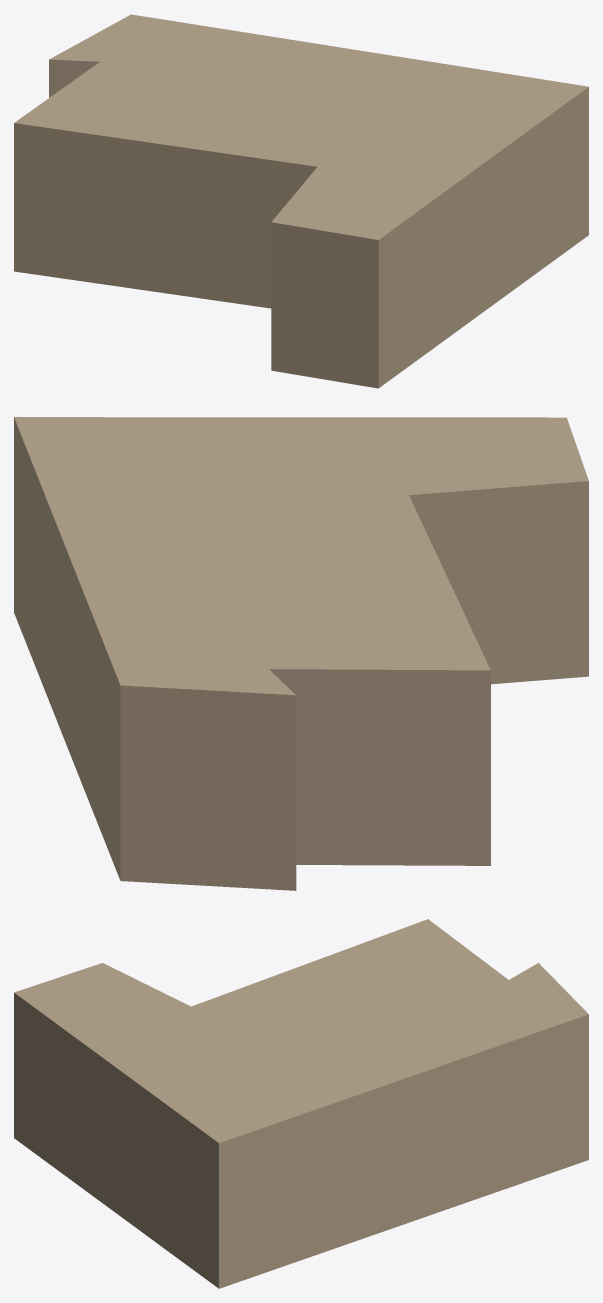
Rendered from bld_1052125175.dae.
3 renders of one model, top to bottom at view 1: azimuth 30°, elevation 25°; view 2: azimuth 150°, elevation 25°; view 3: azimuth 270°, elevation 25°, orthographic. The views are drawn at different scales.
Parts seen in each view (by area): view 1: The Swan Inn; view 2: The Swan Inn; view 3: The Swan Inn.
Part boxes in pixels (x1=…): The Swan Inn: x1=14, y1=14, x2=588, y2=388; The Swan Inn: x1=14, y1=417, x2=588, y2=890; The Swan Inn: x1=14, y1=919, x2=588, y2=1288.
Bounding box in the file's own units: 26.42 × 28.63 × 8.
